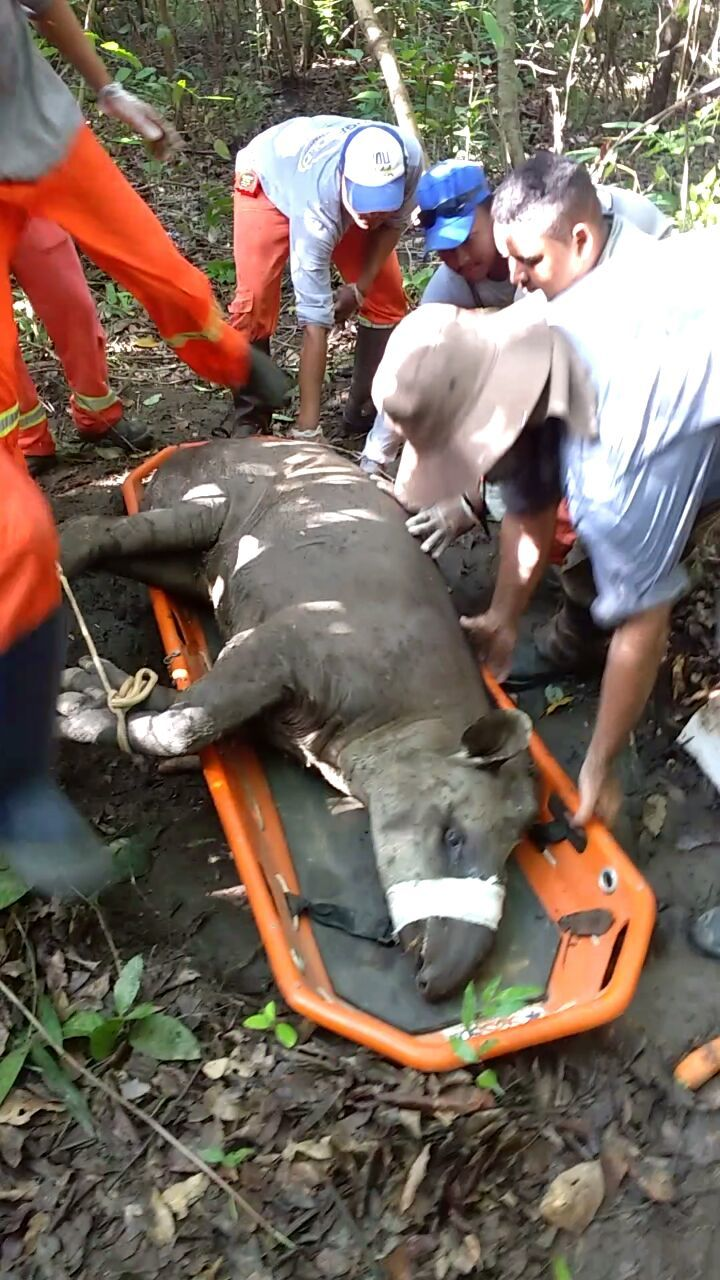Anta: (86, 433, 550, 1002)
